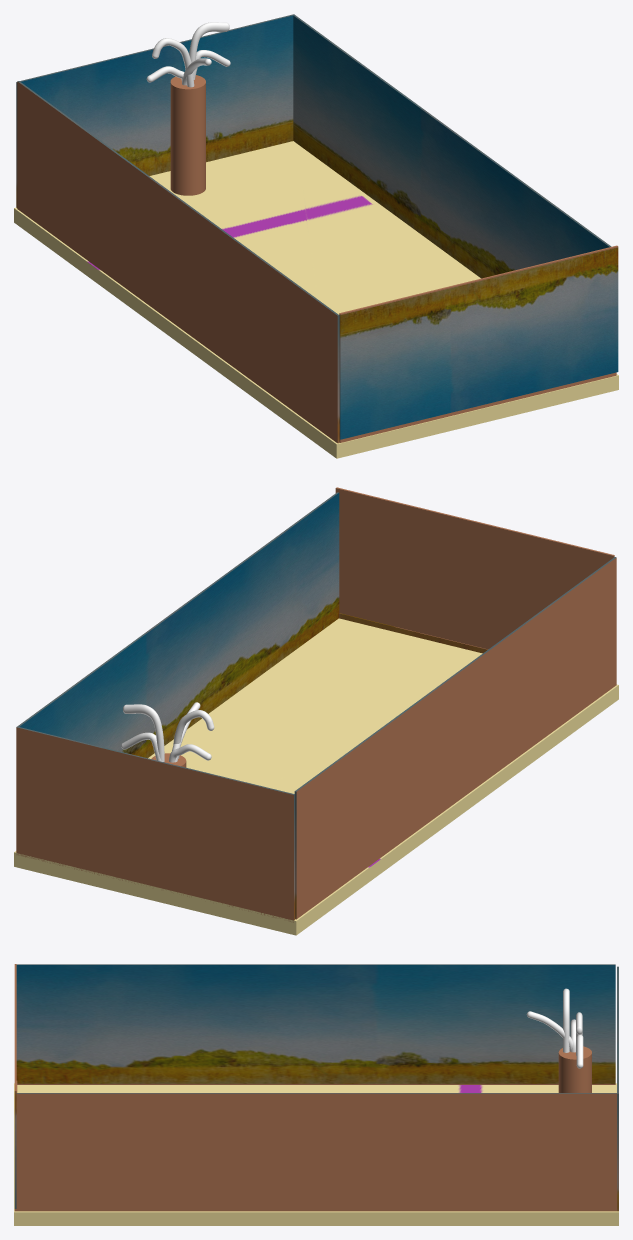
Rendered from squid game map_green ligh red ligh map_free download.fbx.
The picture shows the model from 3 angles, top to bottom: view 1: azimuth 30°, elevation 25°; view 2: azimuth 150°, elevation 25°; view 3: azimuth 270°, elevation 25°; orthographic projection. The views are drawn at different scales.
Parts seen in each view (by area): view 1: node_id17, node_id5, node_id14, node_id20, node_id11, node_id8, Node #0; view 2: node_id17, node_id14, node_id11, node_id20, node_id5, Node #0, node_id32; view 3: node_id20, node_id17, node_id14, node_id8, node_id5, node_id11, node_id26, node_id35.
Boxes of the visible parts, box(x1,y1,x2,y2) form: node_id17: box(17, 81, 339, 443); node_id5: box(339, 245, 618, 439); node_id14: box(14, 141, 618, 458); node_id20: box(293, 15, 611, 278); node_id11: box(16, 14, 294, 207); node_id8: box(170, 75, 205, 195); Node #0: box(339, 372, 616, 442); node_id17: box(294, 557, 616, 919); node_id14: box(14, 618, 618, 935); node_id11: box(16, 726, 294, 922); node_id20: box(17, 492, 339, 758); node_id5: box(335, 487, 614, 649); Node #0: box(339, 613, 487, 653); node_id32: box(123, 704, 164, 761); node_id20: box(16, 1093, 616, 1211); node_id17: box(16, 964, 615, 1084); node_id14: box(14, 1083, 618, 1225); node_id8: box(558, 1046, 591, 1092); node_id5: box(14, 964, 16, 1208); node_id11: box(617, 966, 618, 1211); node_id26: box(563, 988, 569, 1052); node_id35: box(526, 1011, 572, 1051).
Bounding box in the file's own units: 0.512 × 0.3026 × 1.01.
4 materials, 4 textured.
